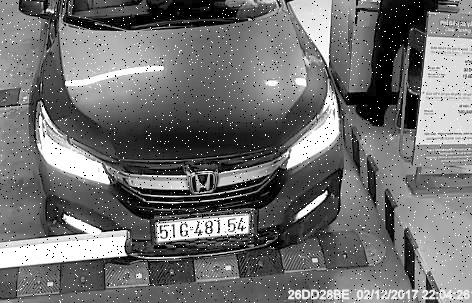License-plate: (156, 210, 257, 249)
